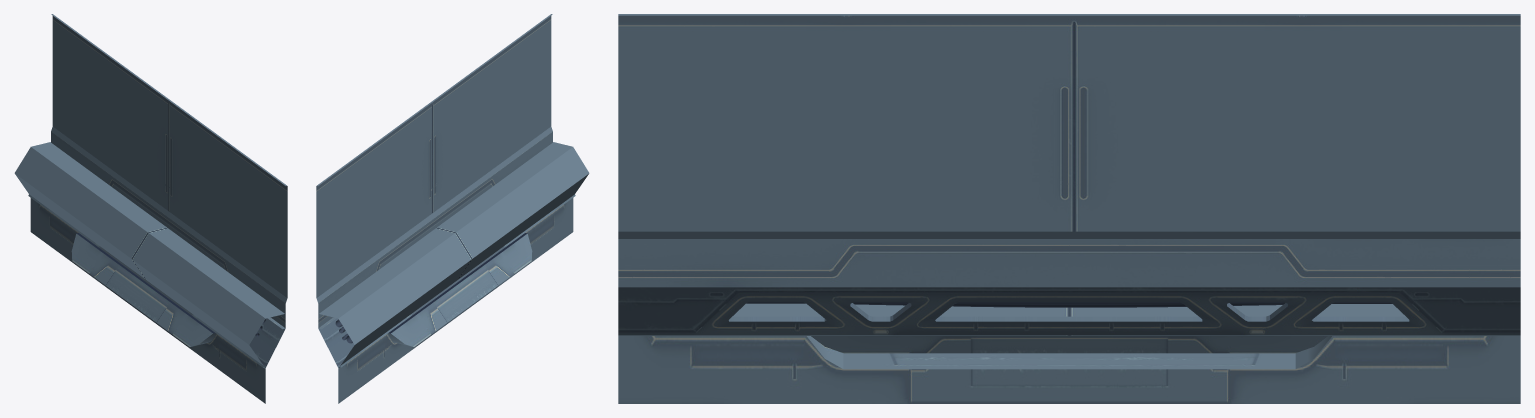
Rendered from TopCables_Straight.gltf.
The picture shows the model from 3 angles, left to right: view 1: azimuth 30°, elevation 25°; view 2: azimuth 150°, elevation 25°; view 3: azimuth 270°, elevation 25°; orthographic projection. The views are drawn at different scales.
Parts seen in each view (by area): view 1: TopCables_Straight; view 2: TopCables_Straight; view 3: TopCables_Straight.
Part boxes in pixels (x1,y1,x2,y2): TopCables_Straight: (14, 14, 287, 403); TopCables_Straight: (316, 14, 589, 403); TopCables_Straight: (618, 14, 1520, 403).
Size of the model in its own units: 0.3839 by 2 by 4.
Materials: 4 (4 with a texture image).
